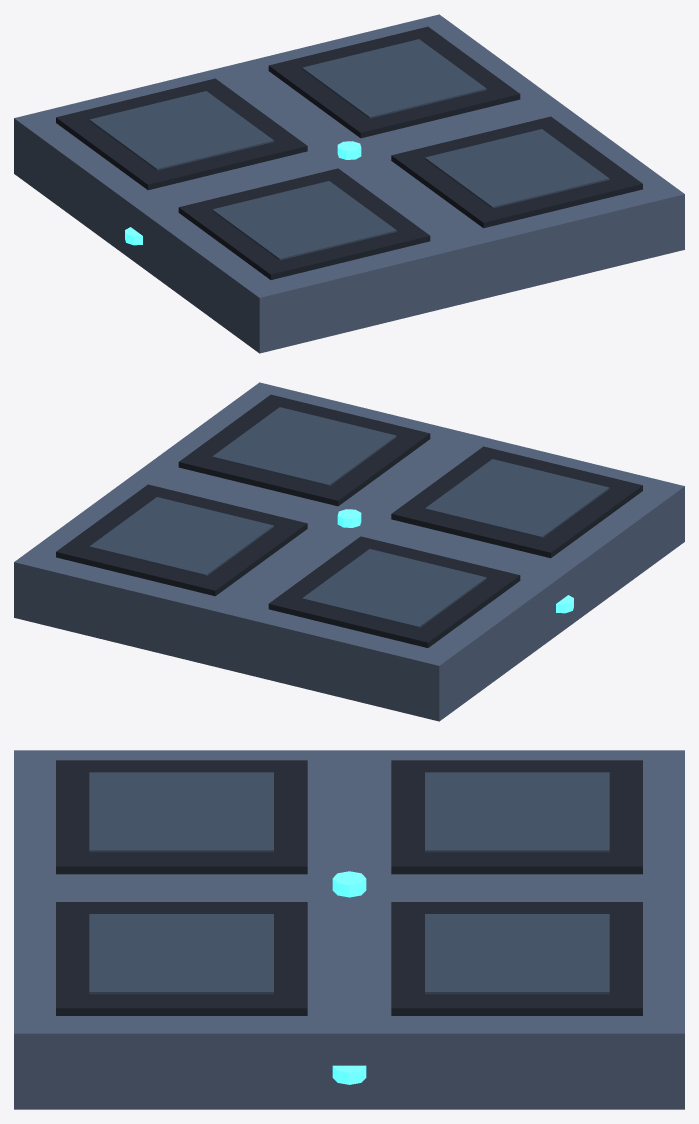
The model's file is mod_techo.fbx.
3 views of the same model, one above another, from view 1: azimuth 30°, elevation 25°; view 2: azimuth 150°, elevation 25°; view 3: azimuth 270°, elevation 25° (orthographic). The views are drawn at different scales.
Parts seen in each view (by area): view 1: Techo, Techo_Conectores; view 2: Techo, Techo_Conectores; view 3: Techo, Techo_Conectores.
Boxes of the visible parts, bbox=[...] form: Techo: bbox=[14, 14, 684, 353]; Techo_Conectores: bbox=[125, 141, 361, 245]; Techo: bbox=[14, 382, 684, 721]; Techo_Conectores: bbox=[337, 509, 573, 613]; Techo: bbox=[14, 750, 684, 1109]; Techo_Conectores: bbox=[332, 871, 366, 1084].
Size of the model in its own units: 1.18 by 0.1904 by 1.12.
